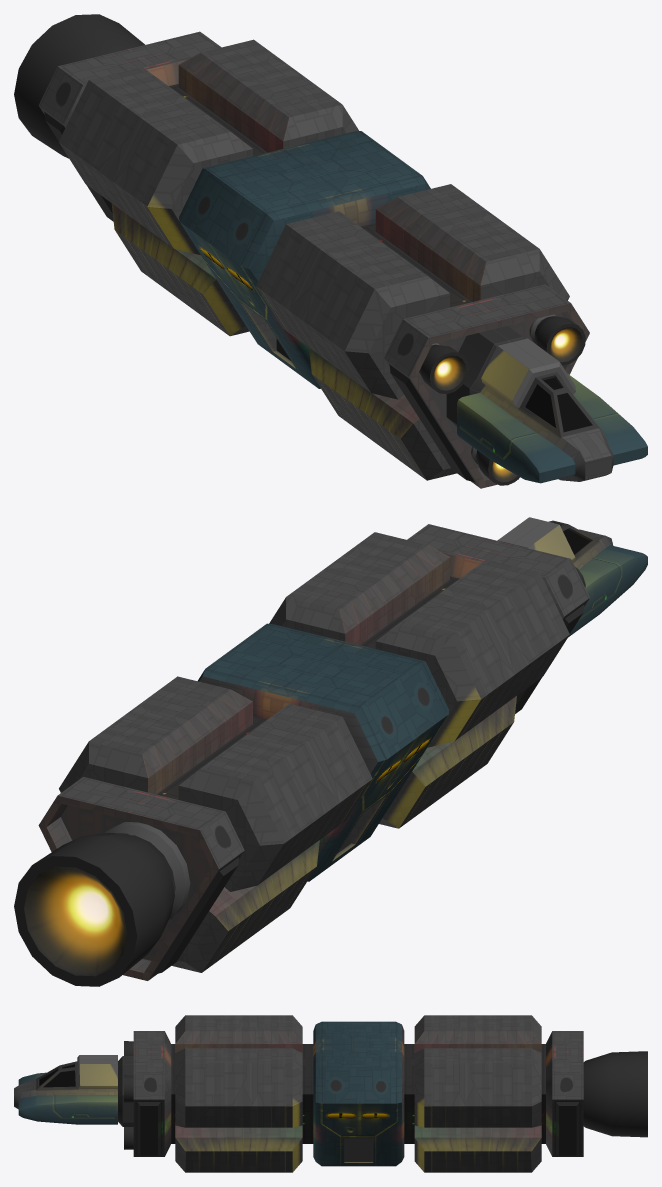
Rendered from Alpaca.fbx.
3 renders of one model, top to bottom at view 1: azimuth 30°, elevation 25°; view 2: azimuth 150°, elevation 25°; view 3: azimuth 270°, elevation 25°, orthographic. The views are drawn at different scales.
Visible parts, largest first — view 1: Alpacal_LOD0; view 2: Alpacal_LOD0; view 3: Alpacal_LOD0.
Boxes of the visible parts, box(x1,y1,x2,y2) form: Alpacal_LOD0: box(14, 14, 647, 488); Alpacal_LOD0: box(14, 517, 647, 986); Alpacal_LOD0: box(14, 1015, 647, 1172).
Size of what is drawn, in the model's own units: 1183 by 1024 by 4751.
1 material, 1 textured.
